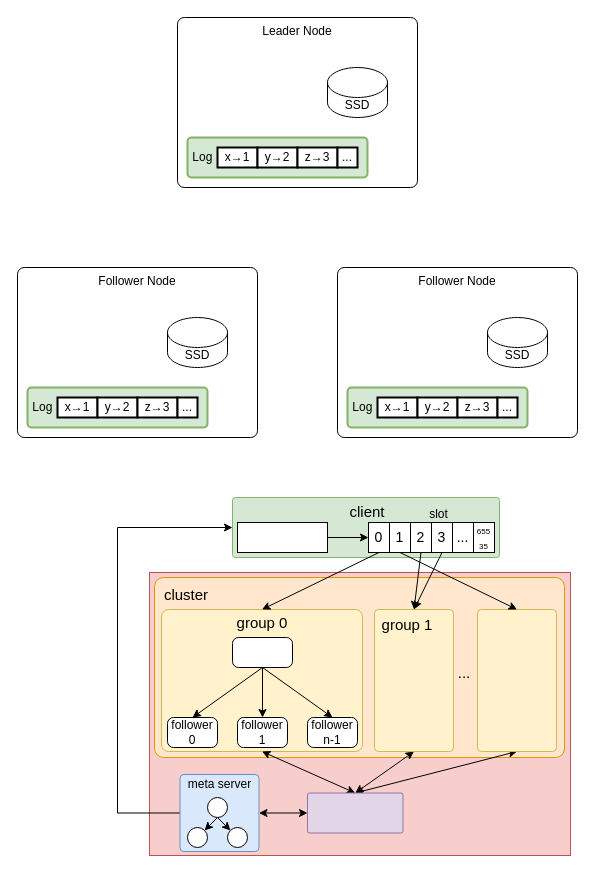
This 595x873 diagram has some shape labels left out. The centre of each missing label's shape, as x and y in pixels:
control server: point 354,812
crc32(key): point 282,537
group m-1: point 516,680
leader: point 262,652
